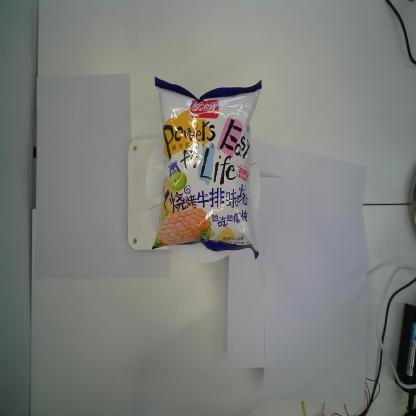Puffed Food: (152, 76, 262, 260)
